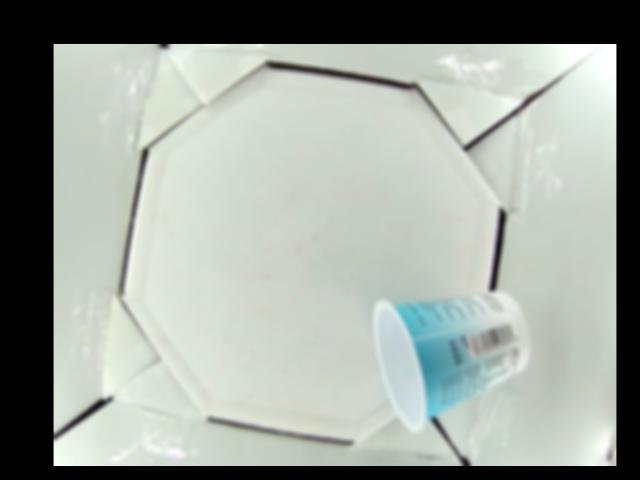Cup: (374, 288, 533, 433)
